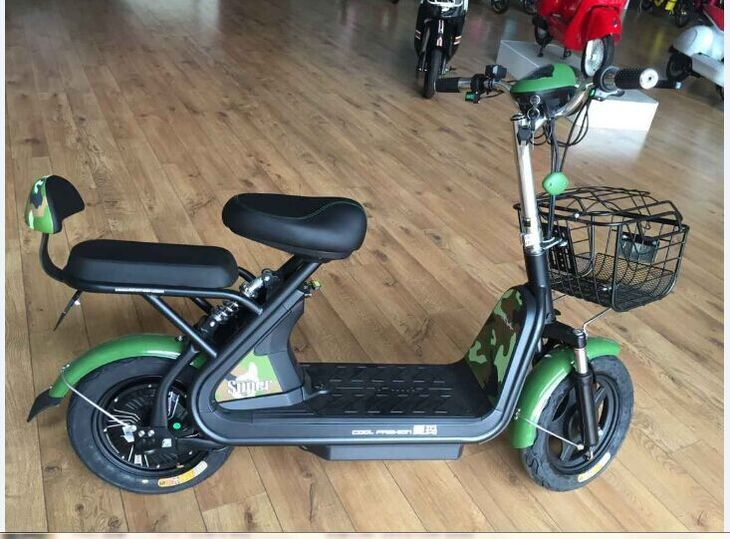non-vehicle: (27, 83, 681, 492), (520, 1, 634, 76), (409, 1, 473, 99)
